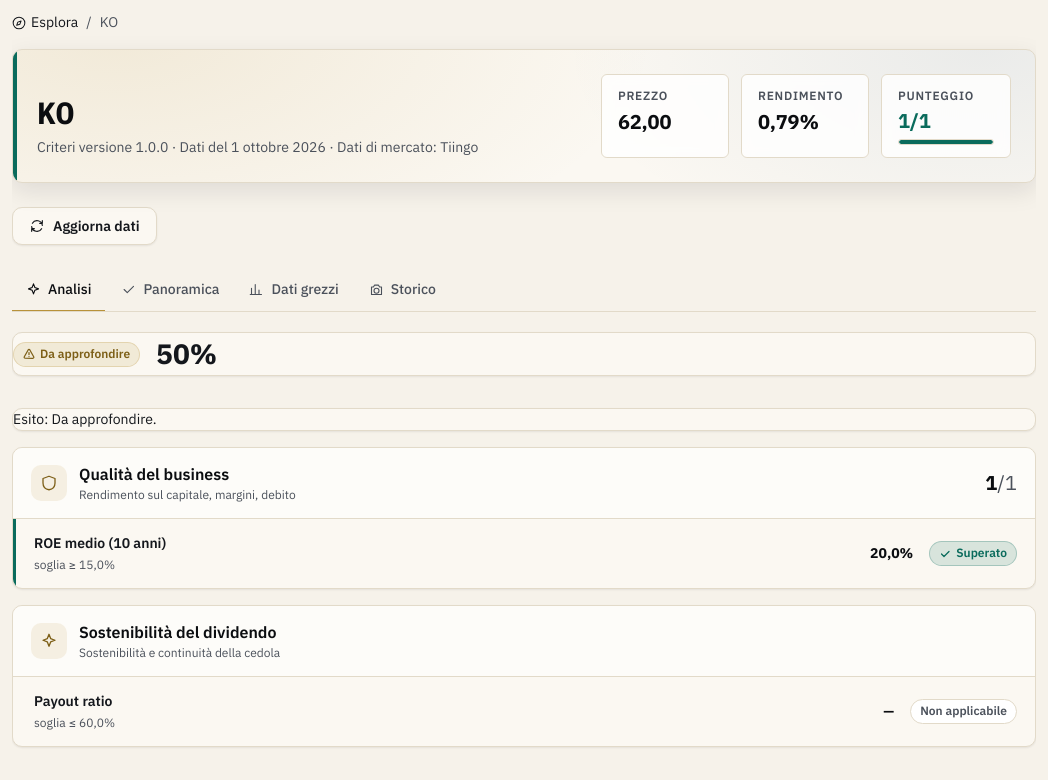
Test: Company detail screen › saving a snapshot adds it to the Storico list without a page reload
This screenshot has width=1048, height=780.
Click the tab "Storico" at (402, 291), box [355, 269, 450, 312]
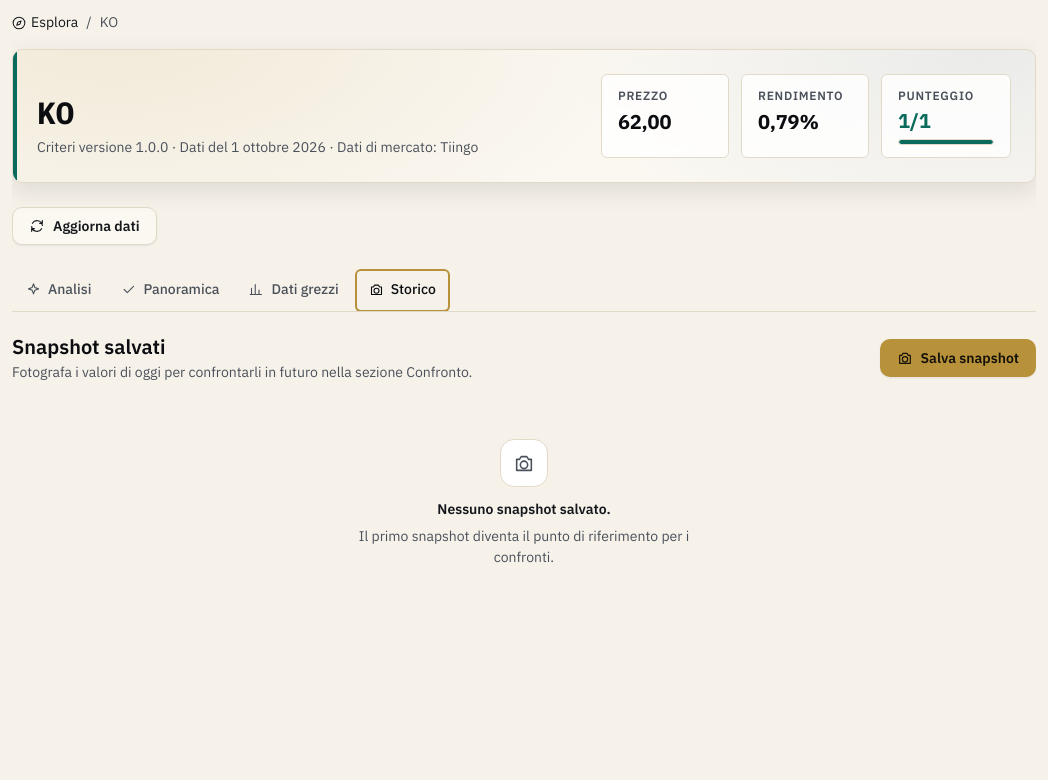
Click the button "Salva snapshot" at (958, 358), box [880, 339, 1036, 377]
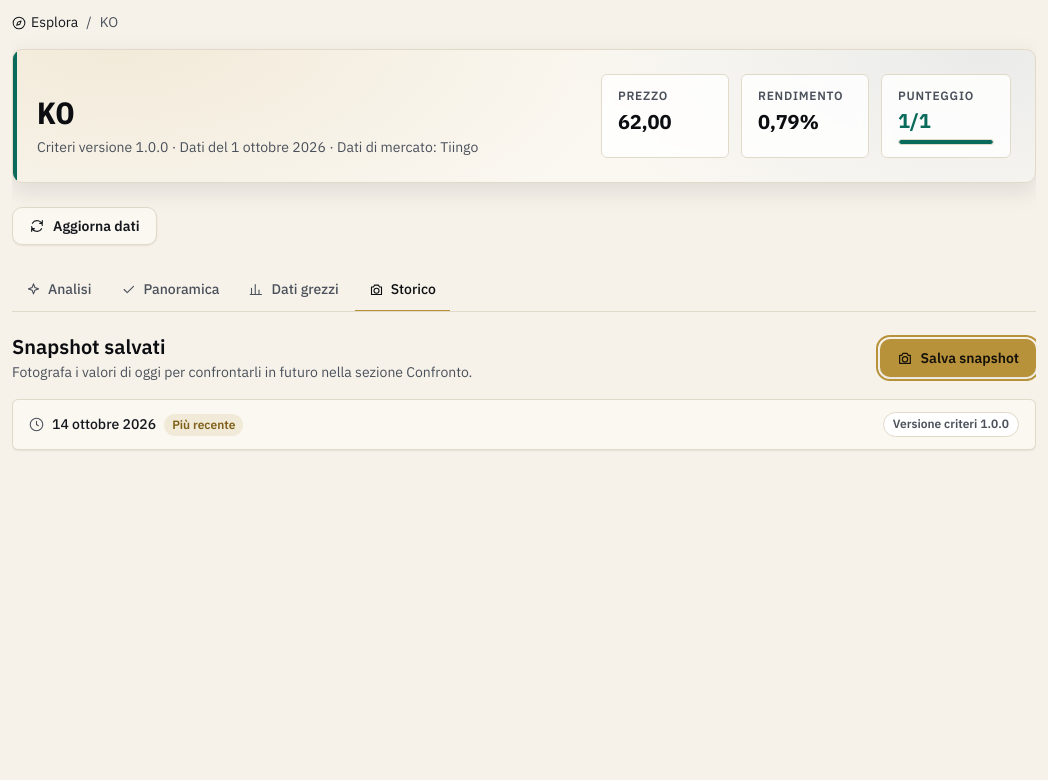
Expected: the text "Versione criteri 1.0.0" is shown, [883, 412, 1019, 437]
